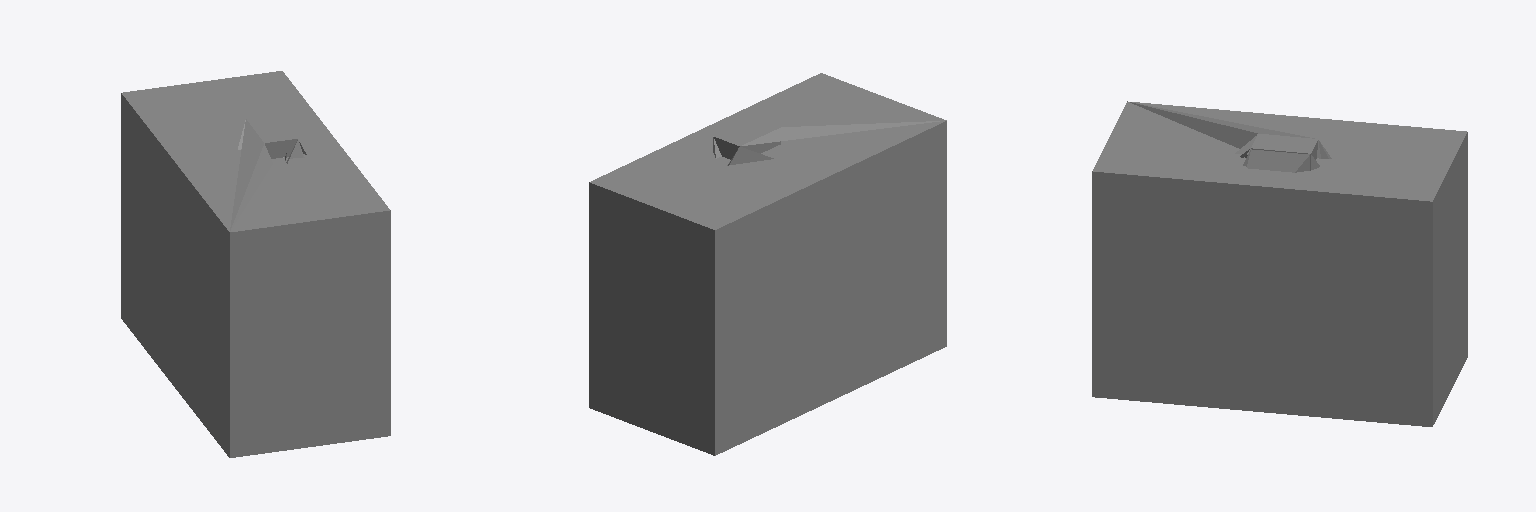
Rendered from House_type-1.obj.
The picture shows the model from 3 angles: view 1: azimuth 30°, elevation 25°; view 2: azimuth 150°, elevation 25°; view 3: azimuth 270°, elevation 25°; orthographic projection.
Visible parts, largest first — view 1: floor6, win, balcon, floor1; view 2: floor6, win, balcon, floor1; view 3: floor6, win, balcon, wall, floor1.
Part boxes in pixels (bbox=[...]): floor6: bbox=[121, 93, 390, 457]; win: bbox=[122, 71, 389, 231]; balcon: bbox=[230, 119, 272, 230]; floor1: bbox=[247, 114, 297, 158]; floor6: bbox=[589, 117, 946, 455]; win: bbox=[590, 73, 946, 229]; balcon: bbox=[742, 121, 939, 145]; floor1: bbox=[714, 118, 780, 159]; floor6: bbox=[1092, 132, 1467, 426]; win: bbox=[1093, 102, 1466, 201]; balcon: bbox=[1127, 101, 1314, 148]; wall: bbox=[1140, 136, 1331, 409]; floor1: bbox=[1252, 134, 1317, 159].
Bounding box in the file's own units: 2326 × 2624 × 3684.